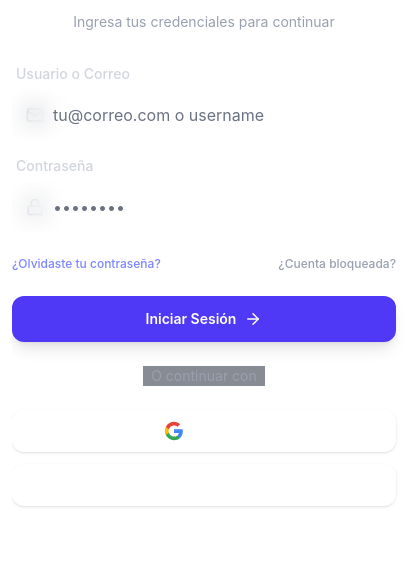
LoginForm › shows validation errors for empty fields on submit
Click the button "Iniciar Sesión".
click(204, 319)  # box left=12, top=296, right=396, bottom=342
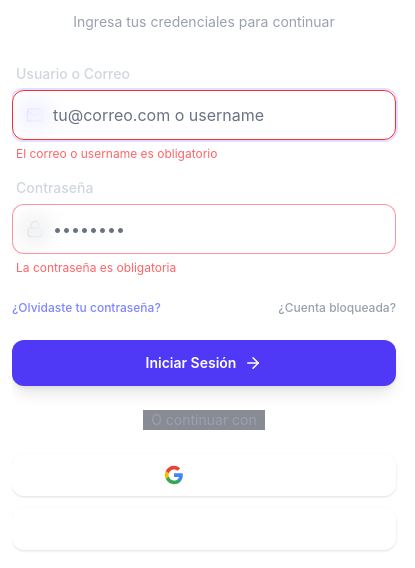
Now the text "El correo o username es obligatorio" is shown, box left=16, top=146, right=218, bottom=161
Now the text "La contraseña es obligatoria" is shown, box left=16, top=260, right=176, bottom=275
